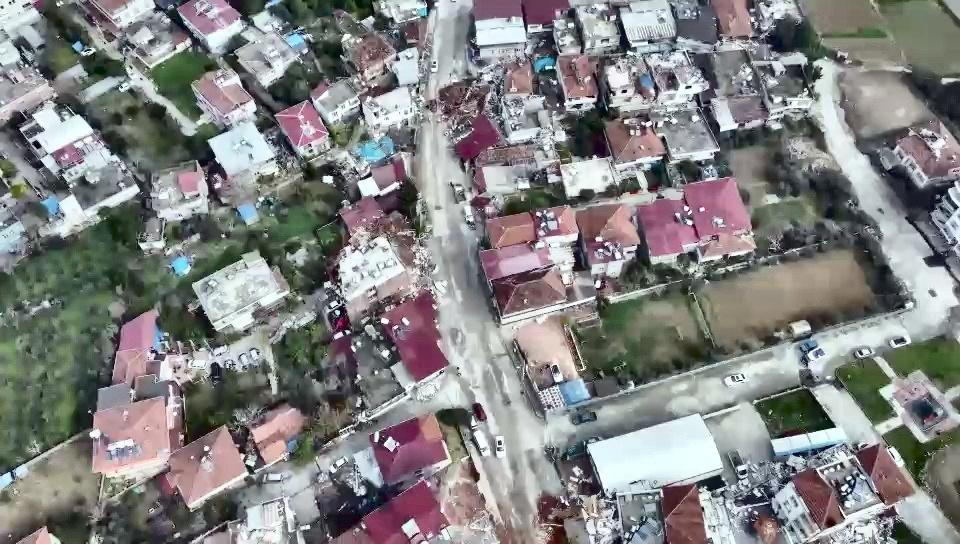kapali: (413, 60, 473, 180), (494, 476, 591, 543)
